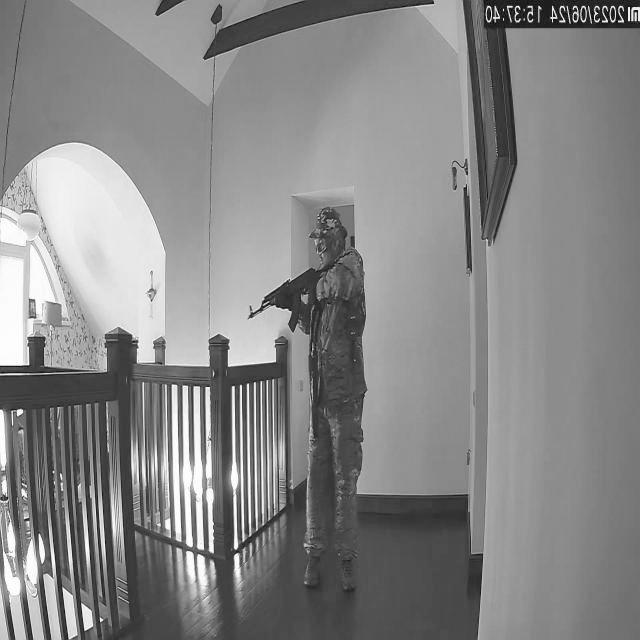gun: (243, 265, 335, 333)
person with a gun: (245, 202, 366, 595)
